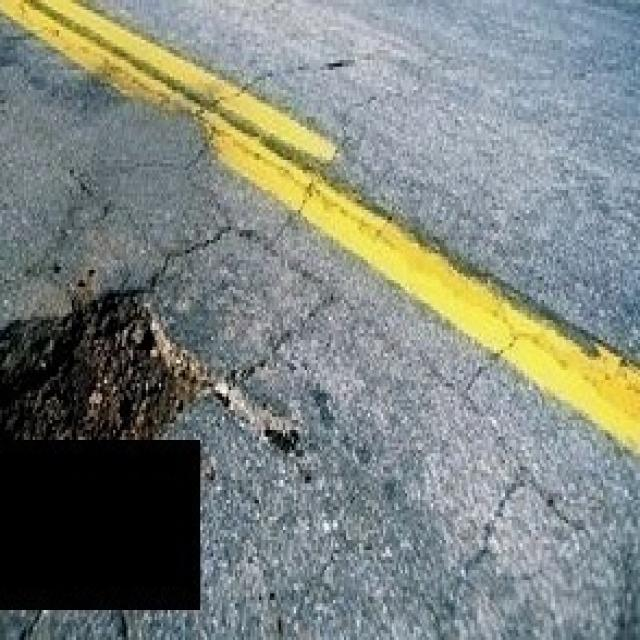road-pothole: (0, 288, 299, 459)
